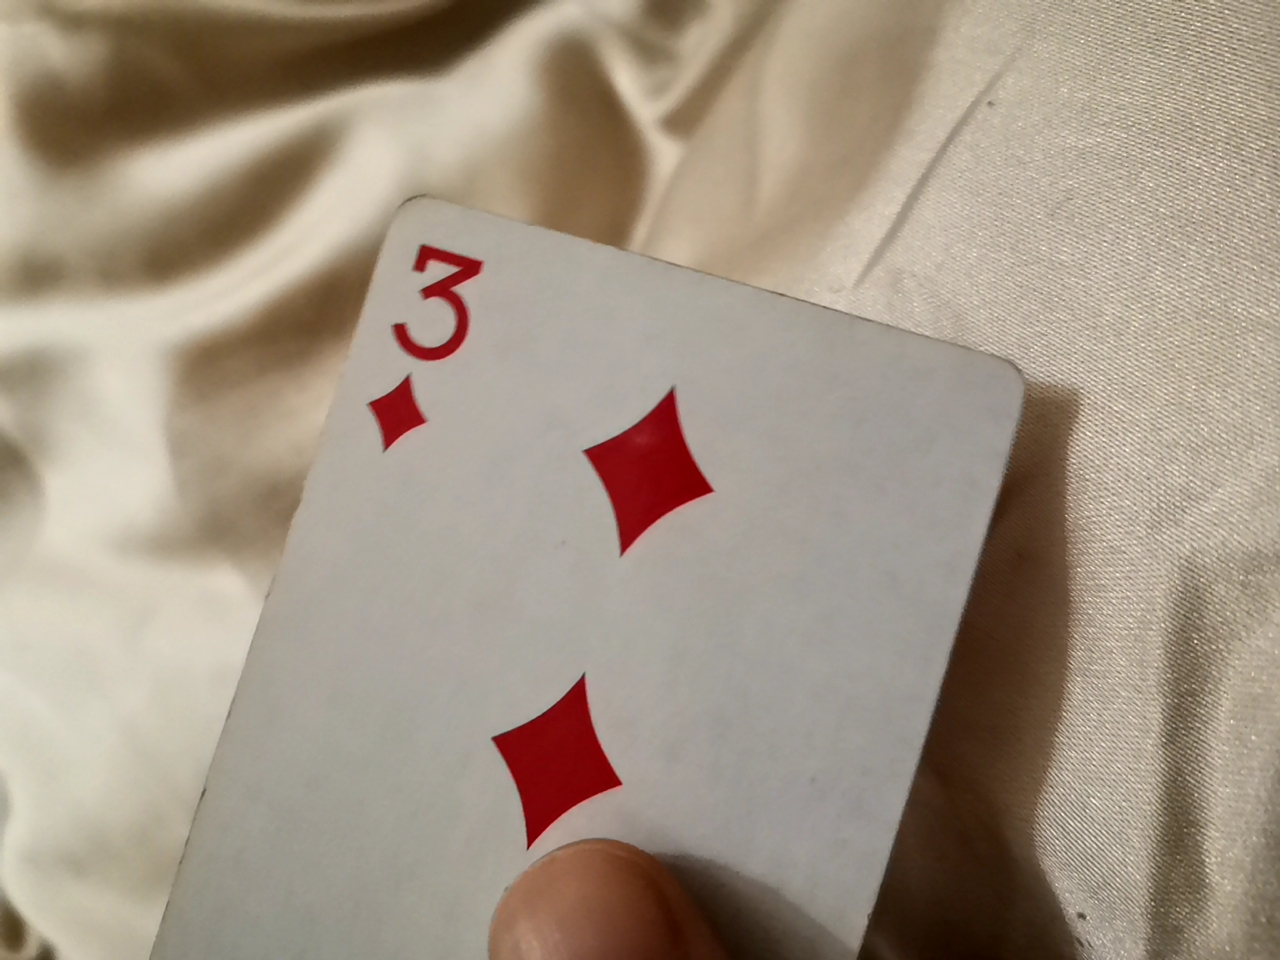fk 3: (148, 232, 1056, 951)
